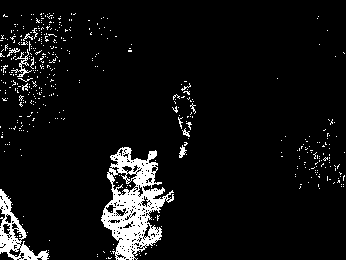person: (173, 80, 197, 157)
